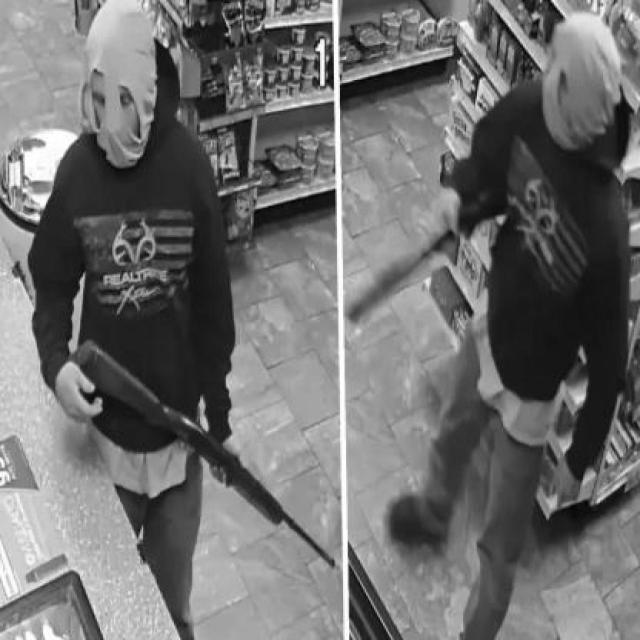weapon: (68, 340, 337, 573), (346, 184, 506, 324)
